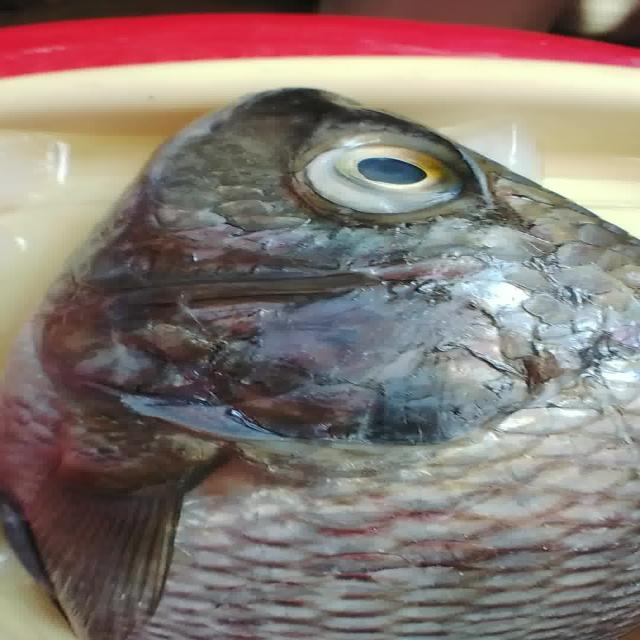Fresh: (27, 304, 604, 630), (296, 122, 484, 227)
